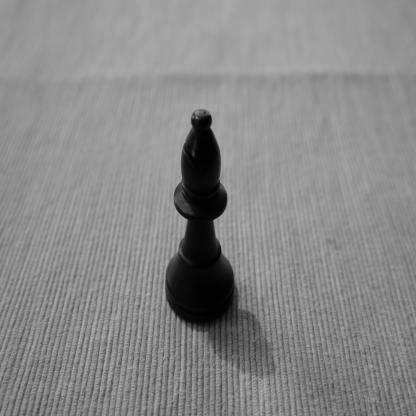black-knight: (165, 108, 235, 328)
